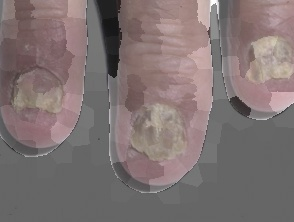Nail_psoriasis: (108, 91, 210, 195), (0, 65, 85, 151), (227, 34, 294, 112)
